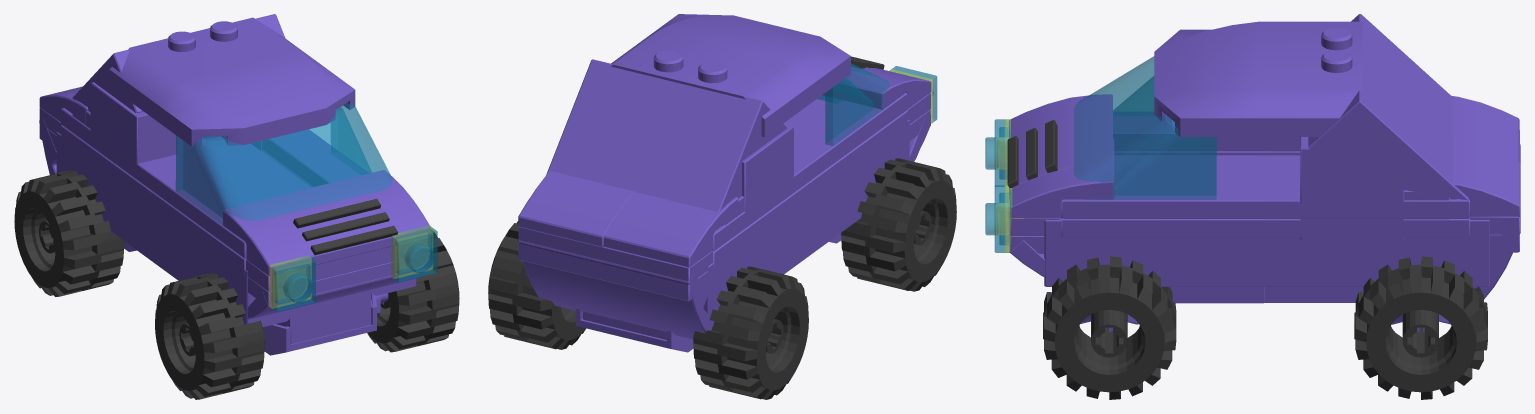
File: blue.gltf
The picture shows the model from 3 angles, left to right: view 1: azimuth 30°, elevation 25°; view 2: azimuth 150°, elevation 25°; view 3: azimuth 270°, elevation 25°; orthographic projection. The views are drawn at different scales.
Visible parts, largest first — view 1: L1x4Flat5; view 2: L1x4Flat5; view 3: L1x4Flat5.
Boxes of the visible parts, left/top/right/bottom form: L1x4Flat5: left=14, top=14, right=459, bottom=399; L1x4Flat5: left=488, top=14, right=956, bottom=399; L1x4Flat5: left=985, top=14, right=1520, bottom=399.
Bounding box in the file's own units: 2.32 × 2.26 × 3.8.
